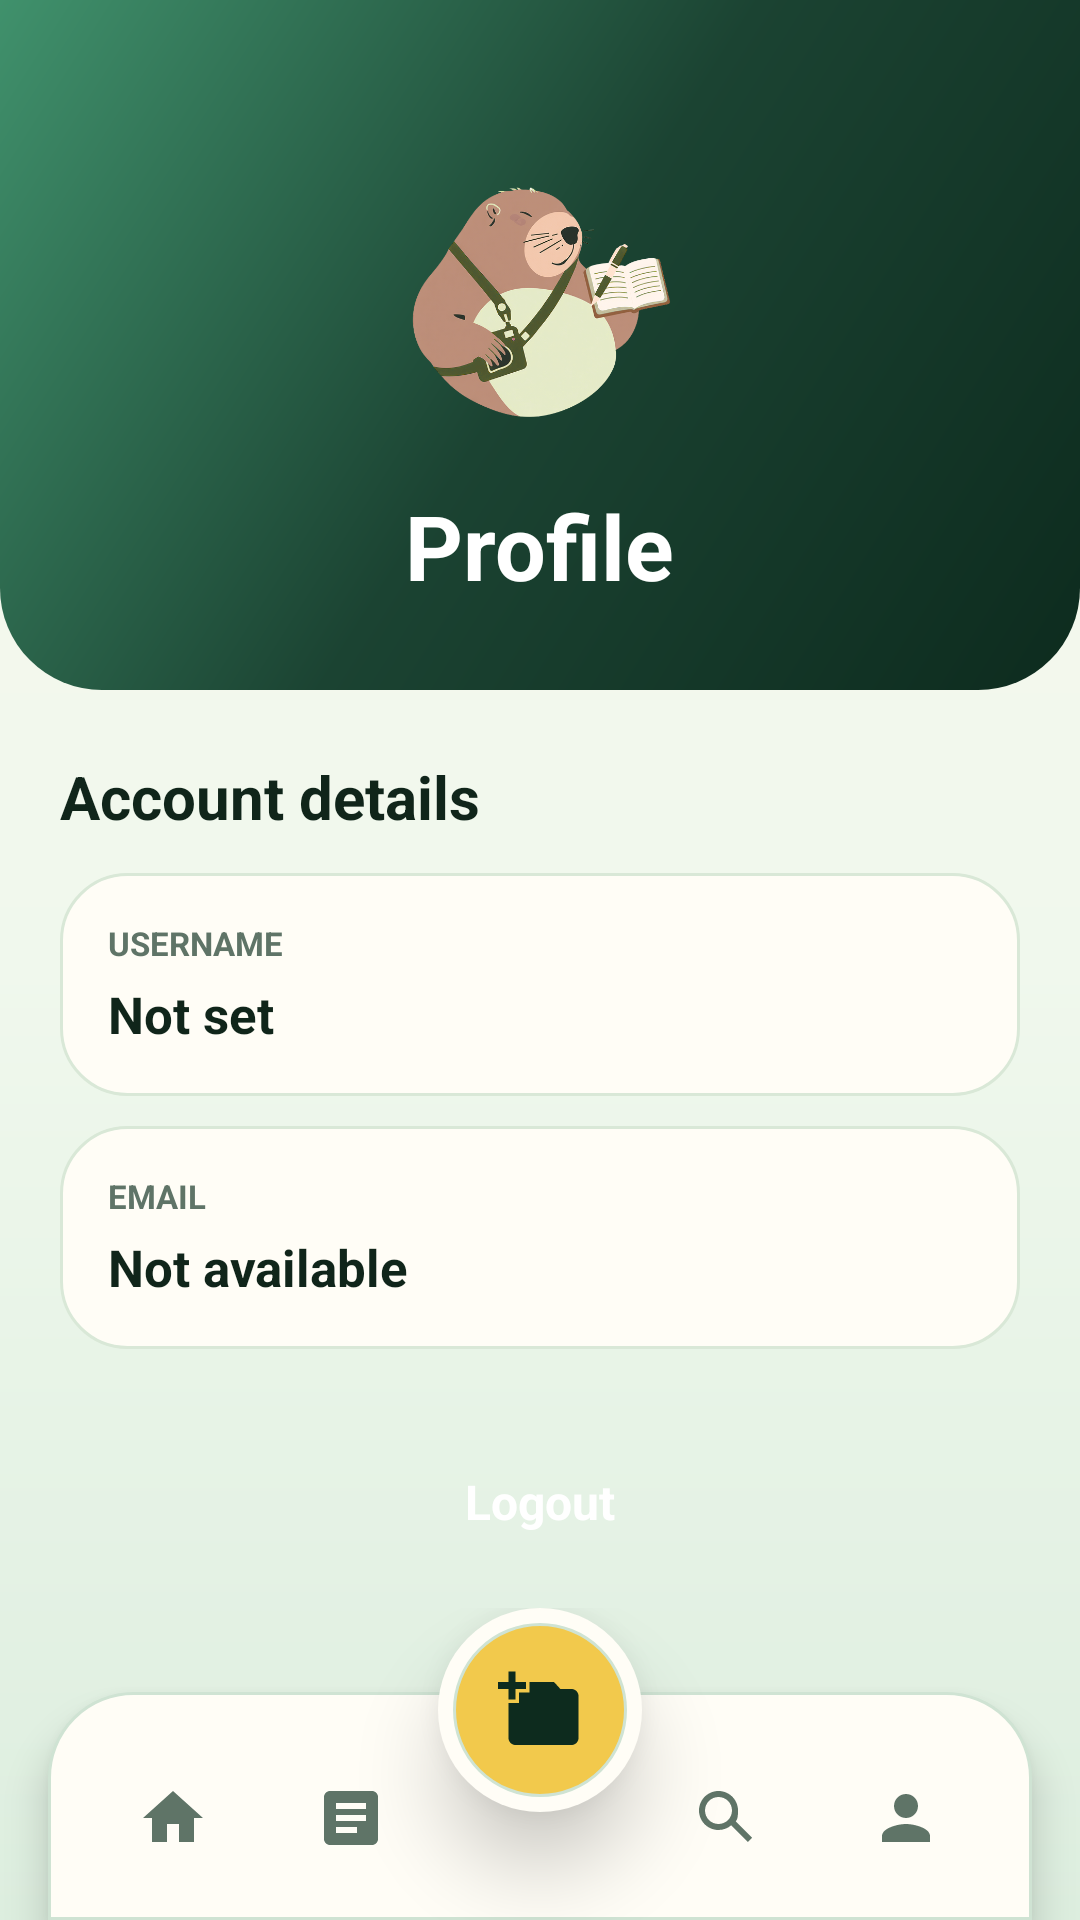

Icon bounding boxes for this 1080*1920 phone screenshot, format (x1, y1, x2, y2):
Home: (143, 1791, 203, 1842)
Profile: (882, 1794, 930, 1842)
Records: (324, 1791, 378, 1845)
Search: (699, 1791, 752, 1842)
